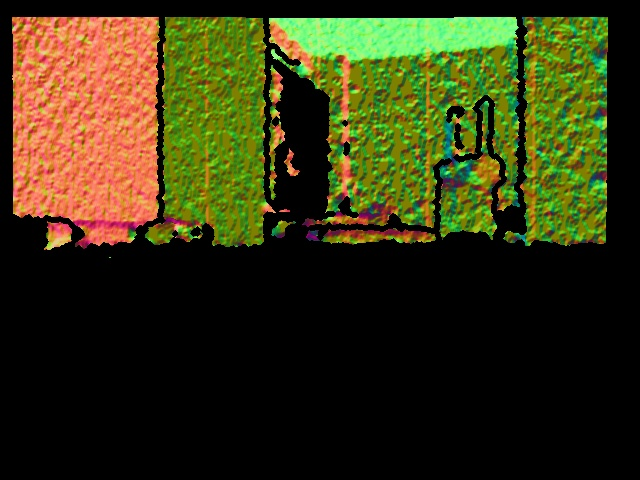station: (434, 96, 504, 183)
